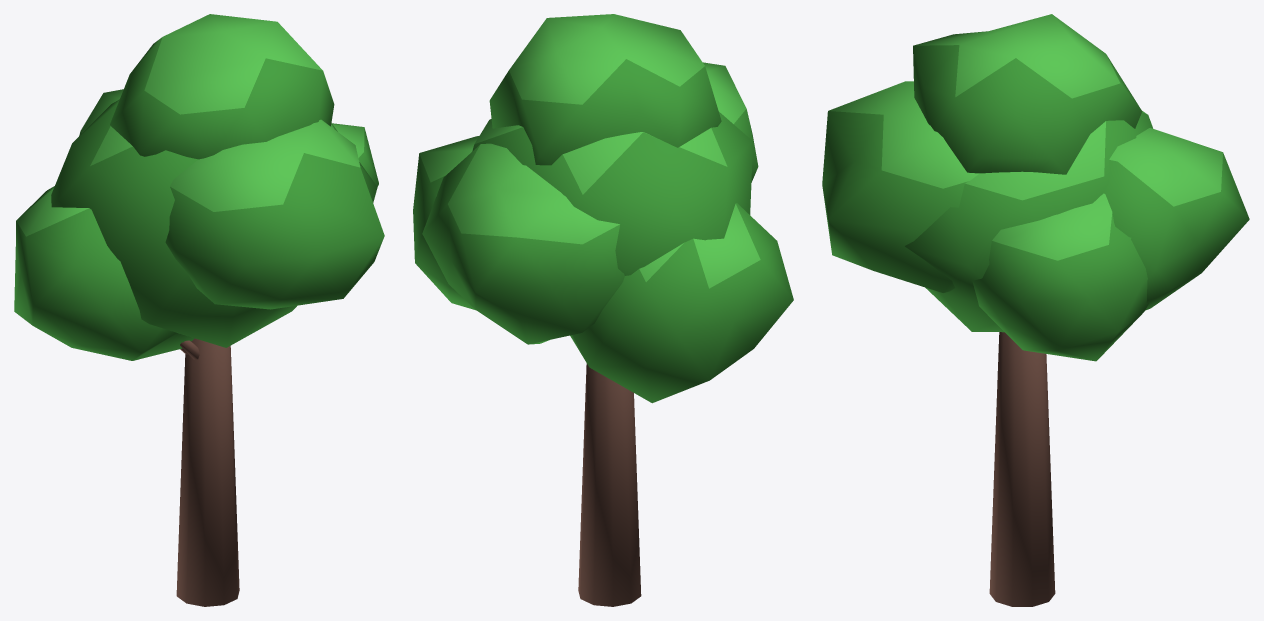
The model's file is TreeTall.glb.
The picture shows the model from 3 angles, left to right: view 1: azimuth 30°, elevation 25°; view 2: azimuth 150°, elevation 25°; view 3: azimuth 270°, elevation 25°; orthographic projection. The views are drawn at different scales.
Visible parts, largest first — view 1: TreeTall; view 2: TreeTall; view 3: TreeTall.
Boxes of the visible parts, bbox=[...] form: TreeTall: bbox=[14, 14, 384, 606]; TreeTall: bbox=[413, 14, 793, 606]; TreeTall: bbox=[822, 14, 1249, 606].
Bounding box in the file's own units: 6.34 × 9.61 × 6.51.
